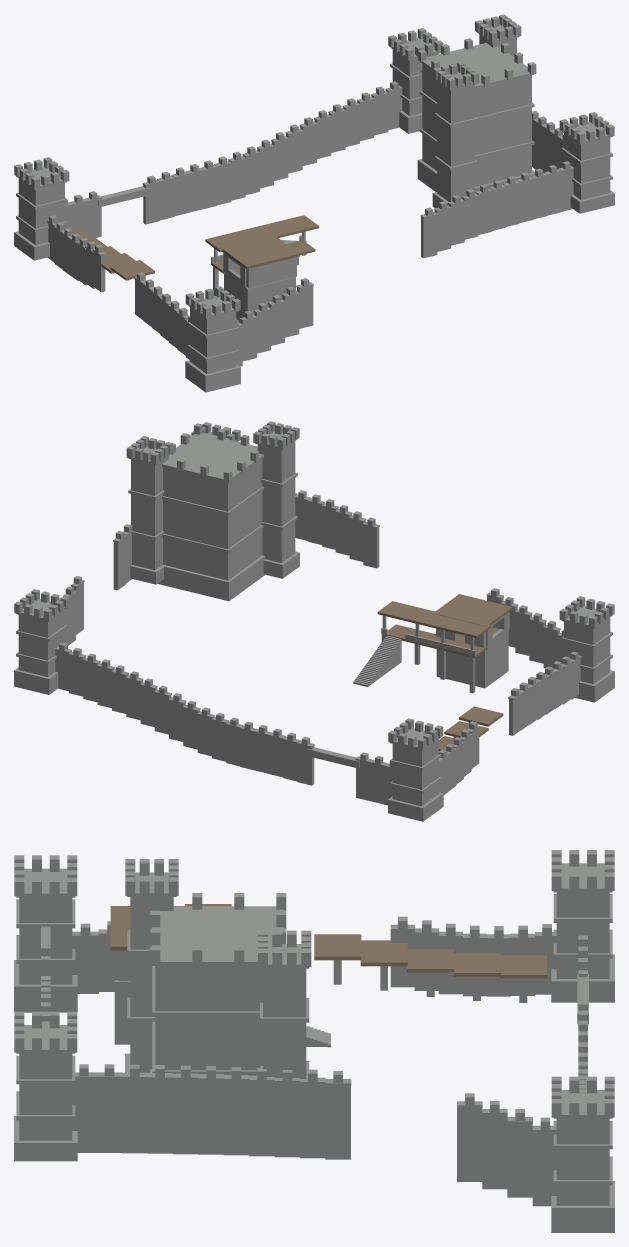
Rendered from hometown-blockout.glb.
3 renders of one model, top to bottom at view 1: azimuth 30°, elevation 25°; view 2: azimuth 150°, elevation 25°; view 3: azimuth 270°, elevation 25°, orthographic. The views are drawn at different scales.
Parts seen in each view (by area): view 1: Tower_357, Tower_374, Tower_289, TowerCornice_360, Tower_323, Tower_306, BedroomCeiling_11, GalleryRoof_19, BedroomFoundation_0, Tower_340, TowerFoundation_288, BedroomBack_2 (+39 smaller); view 2: Tower_357, Tower_374, Tower_391, TowerCornice_360, Tower_306, TowerFoundation_356, Tower_340, BedroomFoundation_0, Tower_289, GalleryRoof_19, BedroomCeiling_11, TowerFoundation_305 (+35 smaller); view 3: Tower_357, TowerCornice_360, Tower_391, Tower_323, Tower_340, Tower_374, Tower_306, Tower_289, CurtainWall_243, CurtainWall_264, CurtainWall_258, TowerFoundation_339 (+39 smaller).
Part boxes in pixels (x1,y1,x2,y2): Tower_357: [422, 64, 531, 186]; Tower_374: [437, 81, 474, 201]; Tower_289: [190, 307, 236, 373]; TowerCornice_360: [421, 43, 534, 88]; Tower_323: [564, 133, 610, 199]; Tower_306: [18, 178, 64, 245]; BedroomCeiling_11: [220, 234, 299, 269]; GalleryRoof_19: [205, 215, 318, 252]; BedroomFoundation_0: [224, 273, 295, 322]; Tower_340: [392, 49, 438, 115]; TowerFoundation_288: [185, 360, 240, 392]; BedroomBack_2: [246, 257, 296, 288]; Tower_357: [163, 459, 262, 580]; Tower_374: [257, 441, 295, 562]; Tower_391: [131, 456, 168, 570]; TowerCornice_360: [162, 433, 263, 482]; Tower_306: [392, 739, 438, 806]; TowerFoundation_356: [157, 555, 265, 601]; Tower_340: [18, 610, 64, 676]; BedroomFoundation_0: [436, 632, 508, 688]; Tower_289: [564, 617, 610, 684]; GalleryRoof_19: [377, 601, 491, 638]; BedroomCeiling_11: [433, 594, 512, 626]; TowerFoundation_305: [388, 792, 443, 821]; Tower_357: [155, 966, 262, 1075]; TowerCornice_360: [152, 906, 284, 965]; Tower_391: [263, 968, 306, 1078]; Tower_323: [19, 1053, 72, 1140]; Tower_340: [556, 1118, 609, 1205]; Tower_374: [130, 897, 173, 1072]; Tower_306: [556, 892, 609, 978]; Tower_289: [19, 897, 72, 984]; CurtainWall_243: [96, 1079, 122, 1152]; CurtainWall_264: [274, 1083, 300, 1157]; CurtainWall_258: [223, 1081, 249, 1155]; TowerFoundation_339: [551, 1181, 614, 1232].
Size of what is drawn, in the model's own units: 112 by 56.63 by 90.6.
